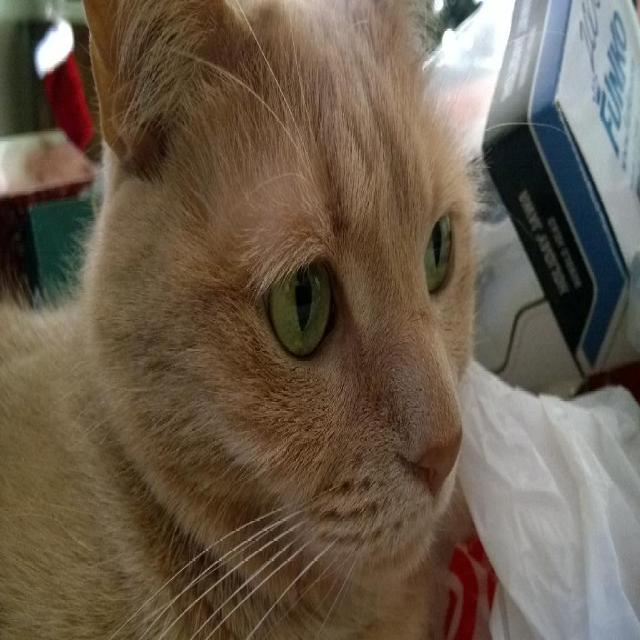Cat: (0, 0, 569, 639)
